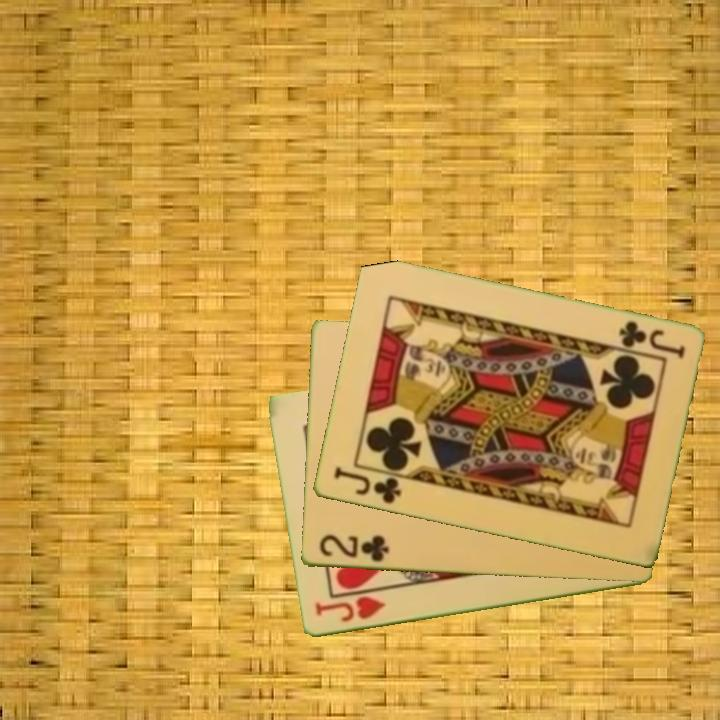2c: (315, 532, 392, 565)
Jc: (330, 463, 404, 507), (615, 318, 687, 361)
Jh: (311, 593, 388, 625)
